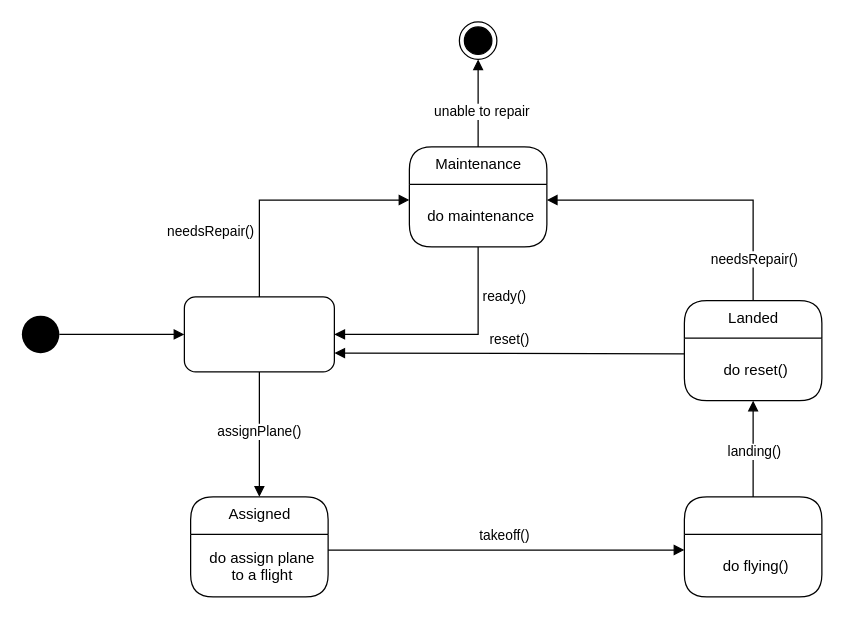
Some shapes in this 844 by 619 pixel diagram are drawn without their labels. Here are the shapes that lost their labels. From the top down, the box of each, then its label:
(183, 296, 334, 372): Unassigned
(683, 496, 822, 597): En Route
